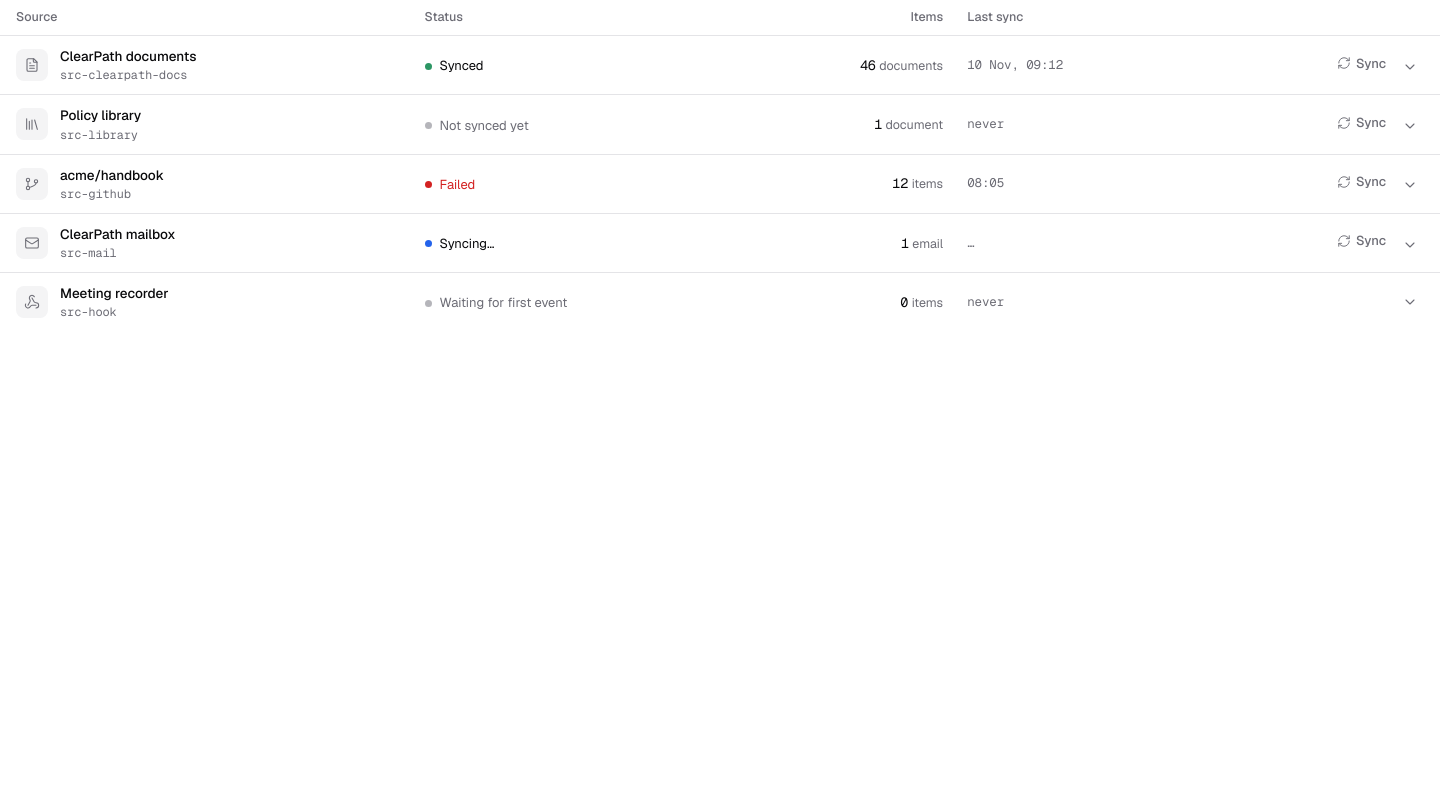
SourcesTable › expanding a source › keeps one source open at a time
What coordinates should you click on to do the following:
click the text "ClearPath documents"
I would click on:
 (128, 56)
Its box is [60,46,196,66].
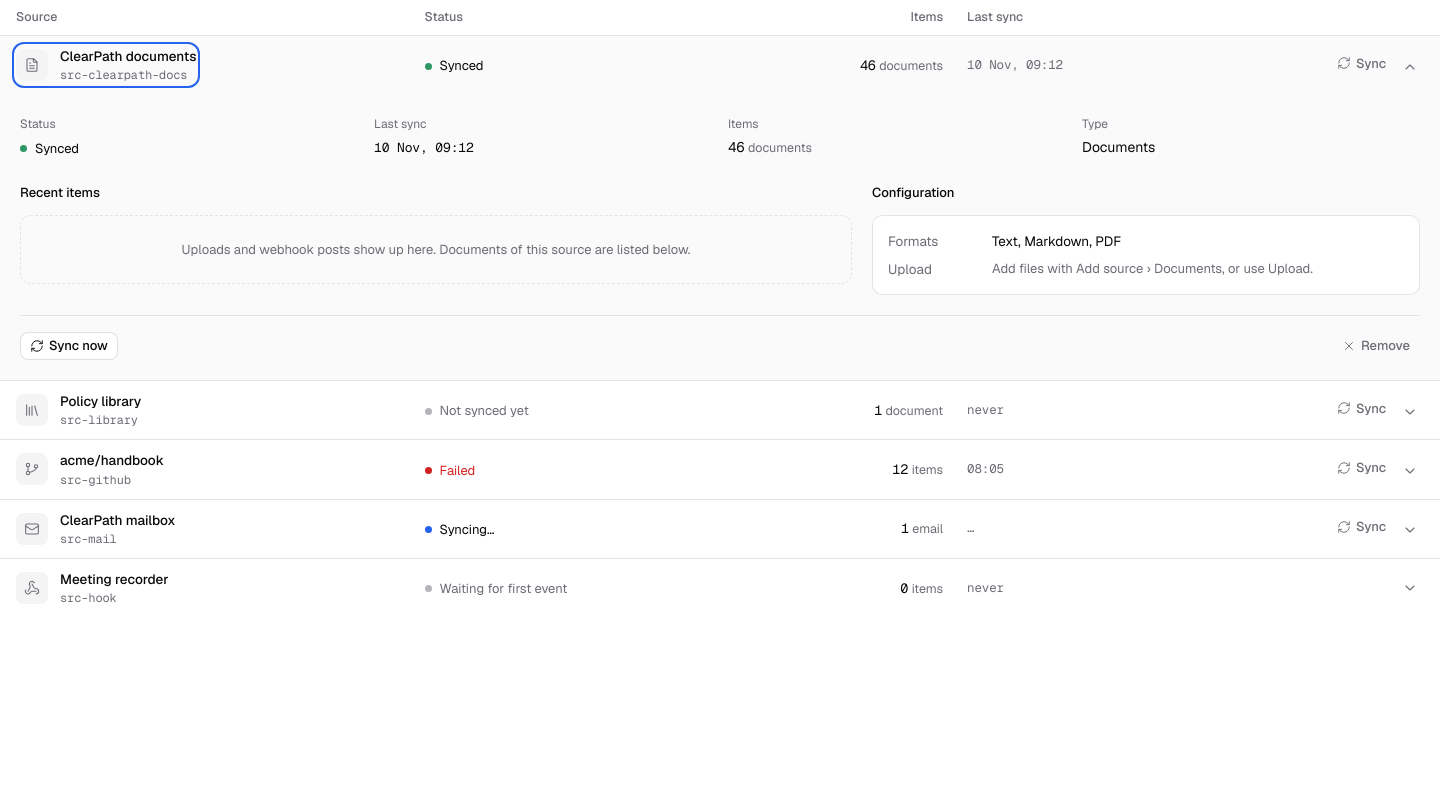
Expected: the heading "Recent items" is shown, [20,183,100,202]
What coordinates should you click on to do the following:
click the button "acme/handbook src-github"
I would click on:
 (90, 469)
Its box is [16,450,164,489].
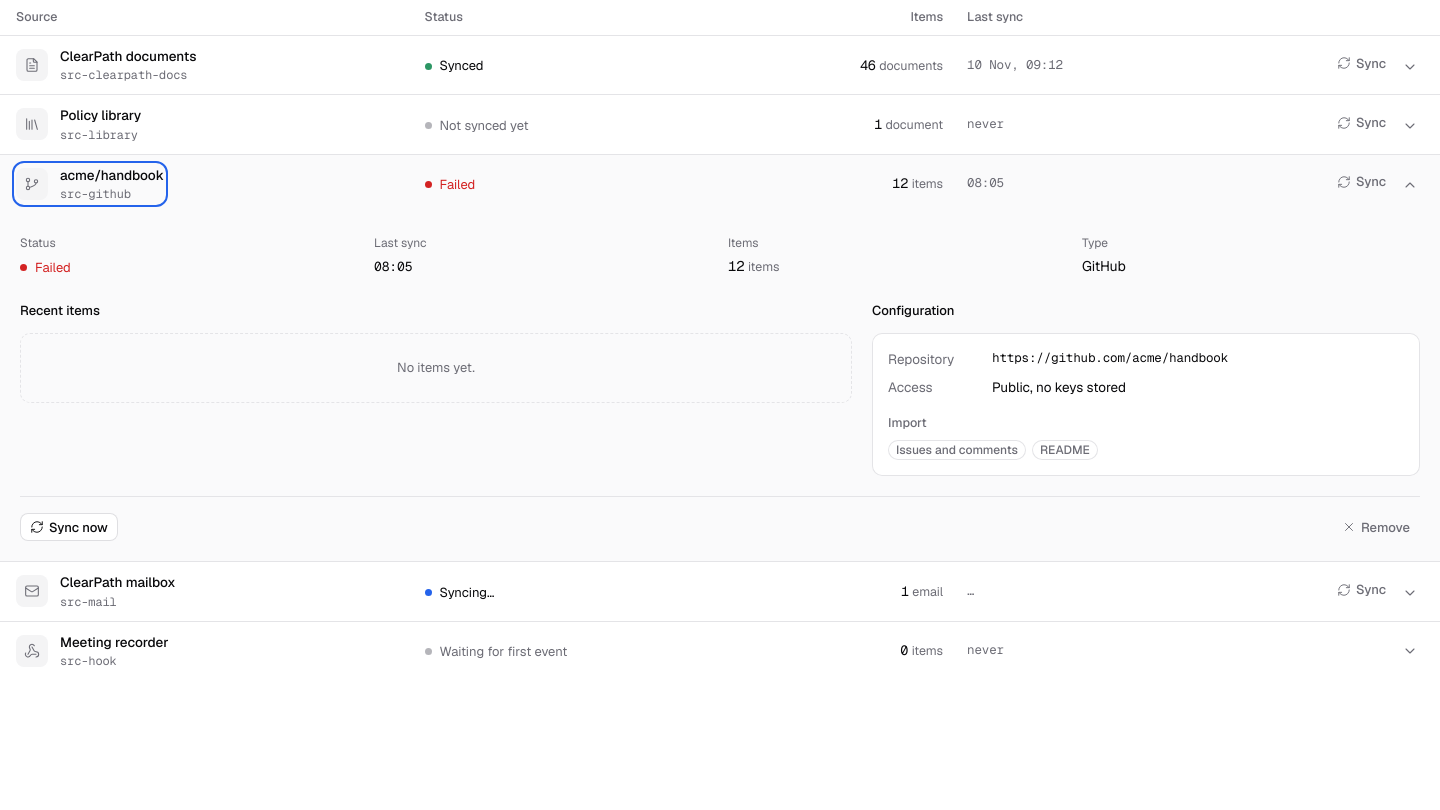
Expected: the heading "Recent items" is shown, [20,301,100,321]
Expected: the button "acme/handbook src-github" is expanded, [16,164,164,203]
